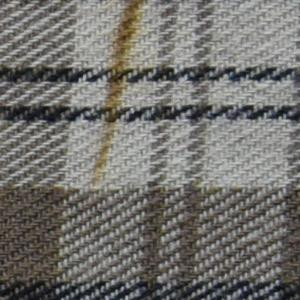Oil Stain: (87, 1, 150, 191)
